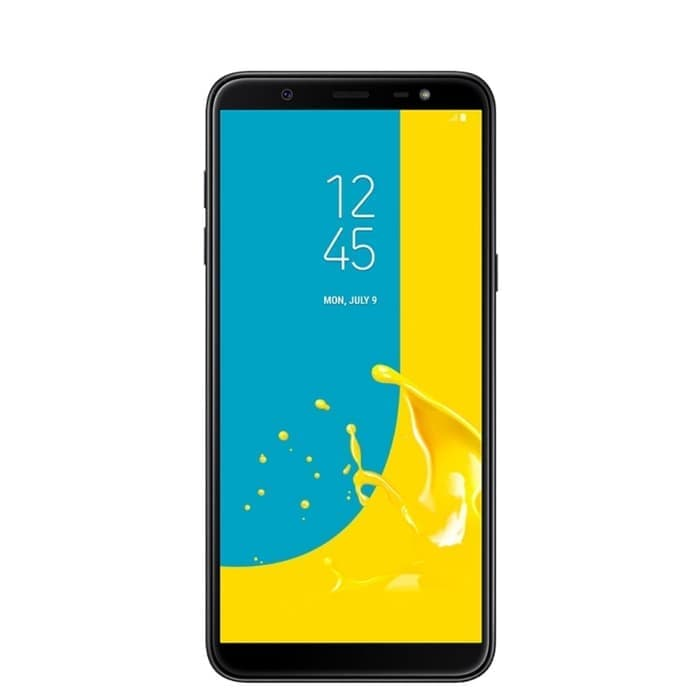Handphone: (194, 66, 506, 690)
